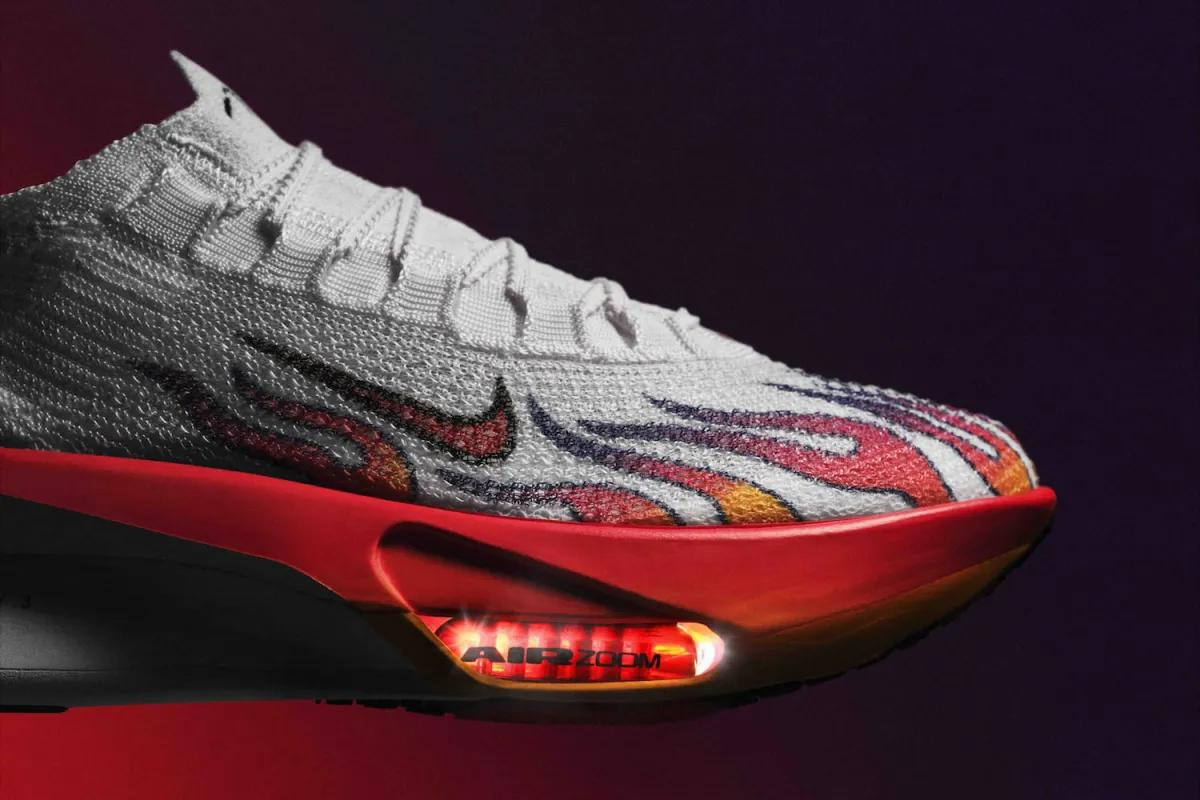nike logo: (182, 304, 526, 477)
